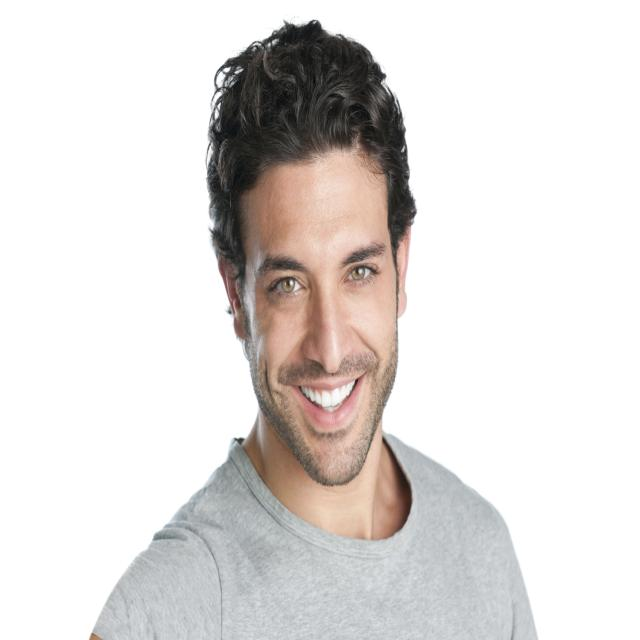front: (244, 219, 396, 440)
